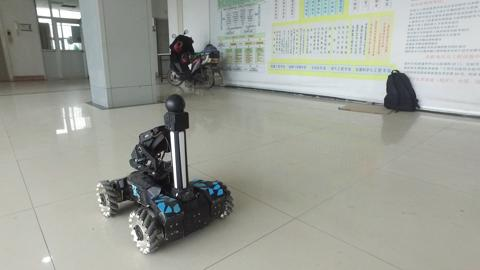bag: (378, 64, 428, 119)
chariot: (82, 94, 240, 259)
